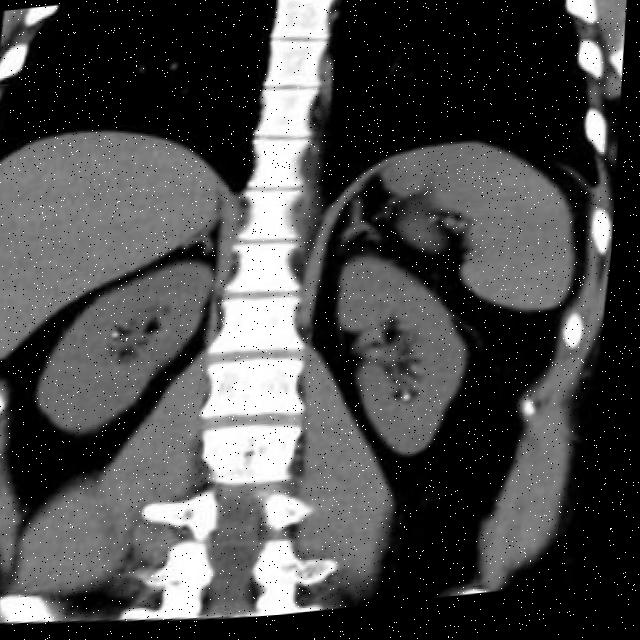Tas_Var: (115, 329, 131, 342), (408, 398, 424, 411)
